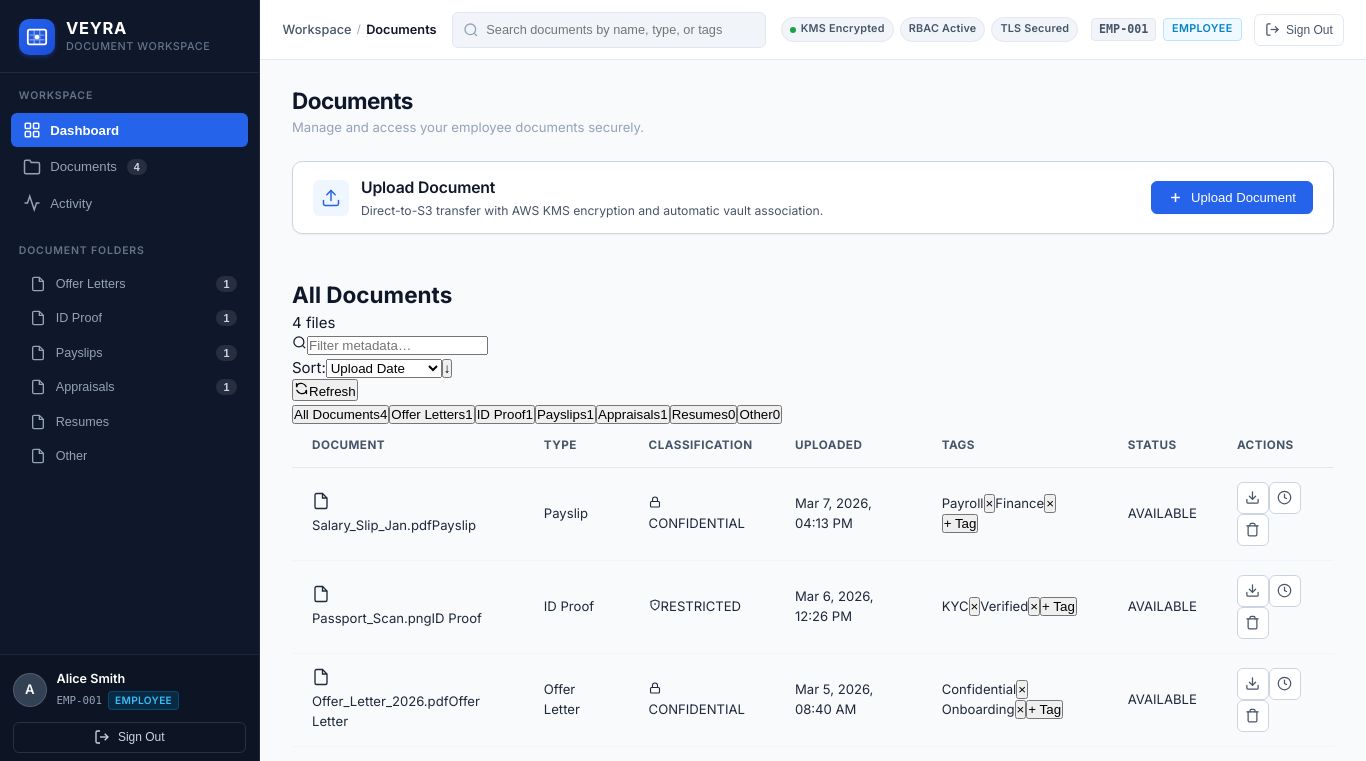
Test: VEYRA Document Browser & Specification Features › filters documents by metadata search (filename, type, tags)
The width and height of the screenshot is (1366, 761).
Expected: the text "Offer_Letter_2026.pdf" is shown, [312,693,448,709]
# Search by filename snippet
In the field named "filter document metadata": (398, 346) [307,336,488,355], type "Salary"
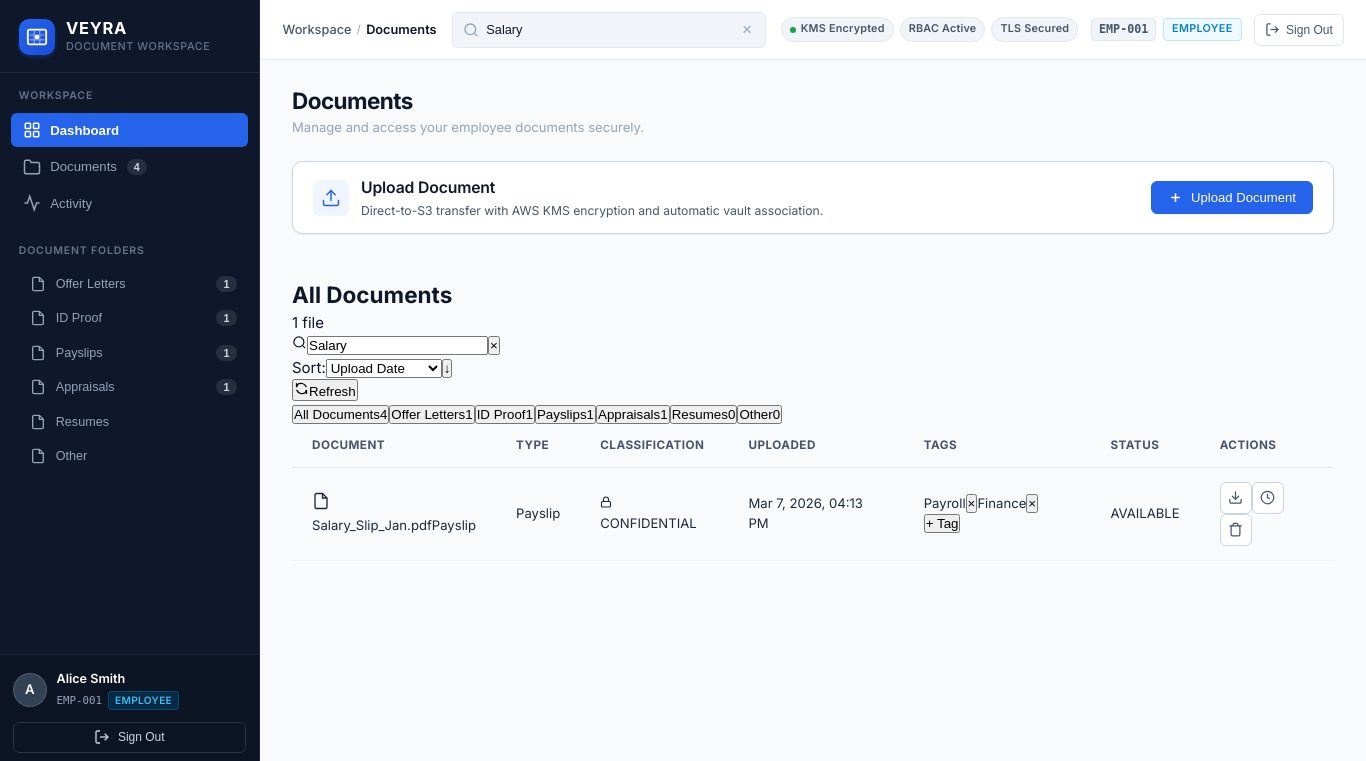
Expected: the text "Salary_Slip_Jan.pdf" is shown, [312,517,432,533]
Result: the text "Offer_Letter_2026.pdf" is gone
# Search by persisted tag
Replace the text in the field named "filter document metadata" with "Confidential": (398, 346) [307,336,488,355]
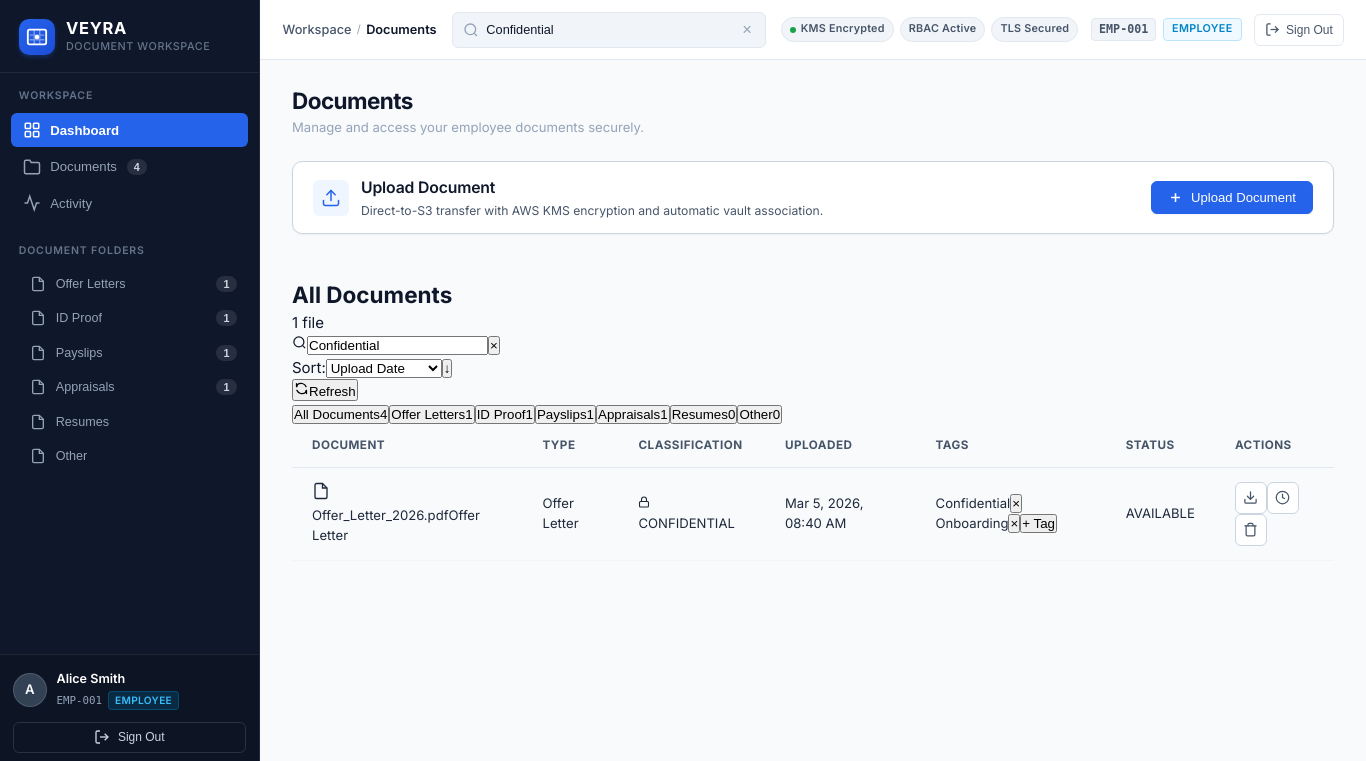
Expected: the text "Passport_Scan.png" is not shown
Result: the text "Offer_Letter_2026.pdf" is shown at [312,507,448,523]
# Clear search
Clear the field named "filter document metadata": (398, 346) [307,336,488,355]
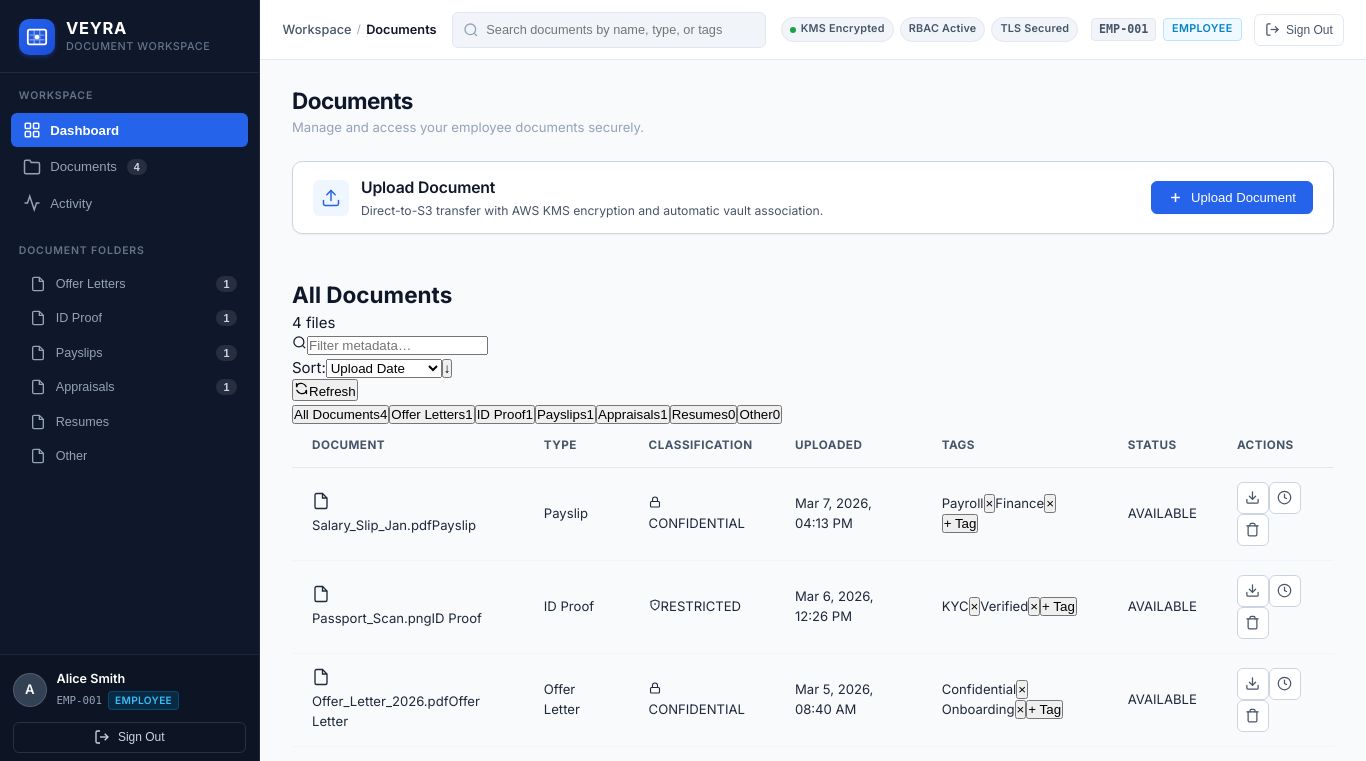
Result: the text "Offer_Letter_2026.pdf" is shown at [312,693,448,709]
Result: the text "Passport_Scan.png" is shown at [312,610,432,626]
